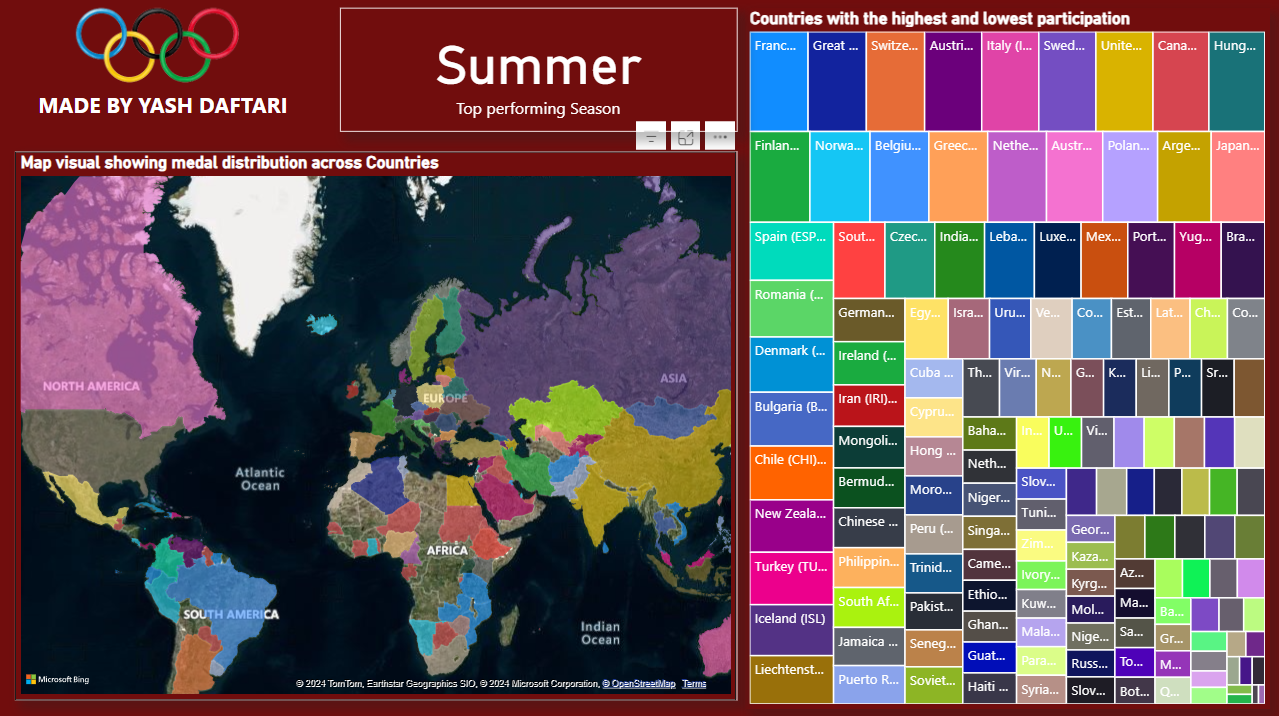

This screenshot's page, from the dashboard's own definition file:
{"tool":"powerbi","page":{"name":"Dashboard Page 2","canvas":[1280,720],"ordinal":1},"visuals":[{"type":"textbox","box":[0,0,287.5,75],"z":0},{"type":"filledMap","title":"Map visual showing medal distribution across Countries","fields":{"Series":["Olympics data  - Sheet1.Combined total"],"Category":["Olympics data  - Sheet1.Country without code"]},"box":[14.4,152.2,722.2,548.9],"z":5000},{"type":"image","box":[14.4,0,284.4,95.6],"z":6000},{"type":"treemap","title":"Countries with the highest and lowest participation","fields":{"Group":["Olympics data  - Sheet1.Country"],"Values":["Sum(Olympics data  - Sheet1.Total games played)"]},"box":[745,8.8,525,701.2],"z":7000},{"type":"card","fields":{"Values":["Olympics Dataset.Top Season"]},"box":[340,8.8,397.5,123.8],"z":7001},{"type":"textbox","box":[0,75.6,325.6,67.8],"z":7002}]}

Visuals, with their boxes in screenshot pixels (x1, y1, x2, y2), scaled from the page's 1280x720 canvas onto the 1279x716 screenshot:
textbox: select_region(0, 0, 287, 75)
"Map visual showing medal distribution across Countries" filledMap: select_region(14, 151, 736, 697)
image: select_region(14, 0, 299, 95)
"Countries with the highest and lowest participation" treemap: select_region(744, 9, 1269, 706)
card - Olympics Dataset.Top Season: select_region(340, 9, 737, 132)
textbox: select_region(0, 75, 325, 143)
